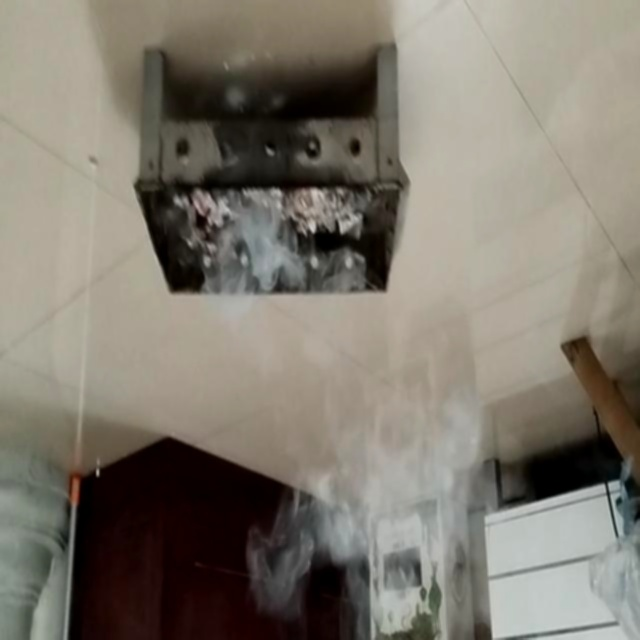smoke: (300, 337, 432, 548)
